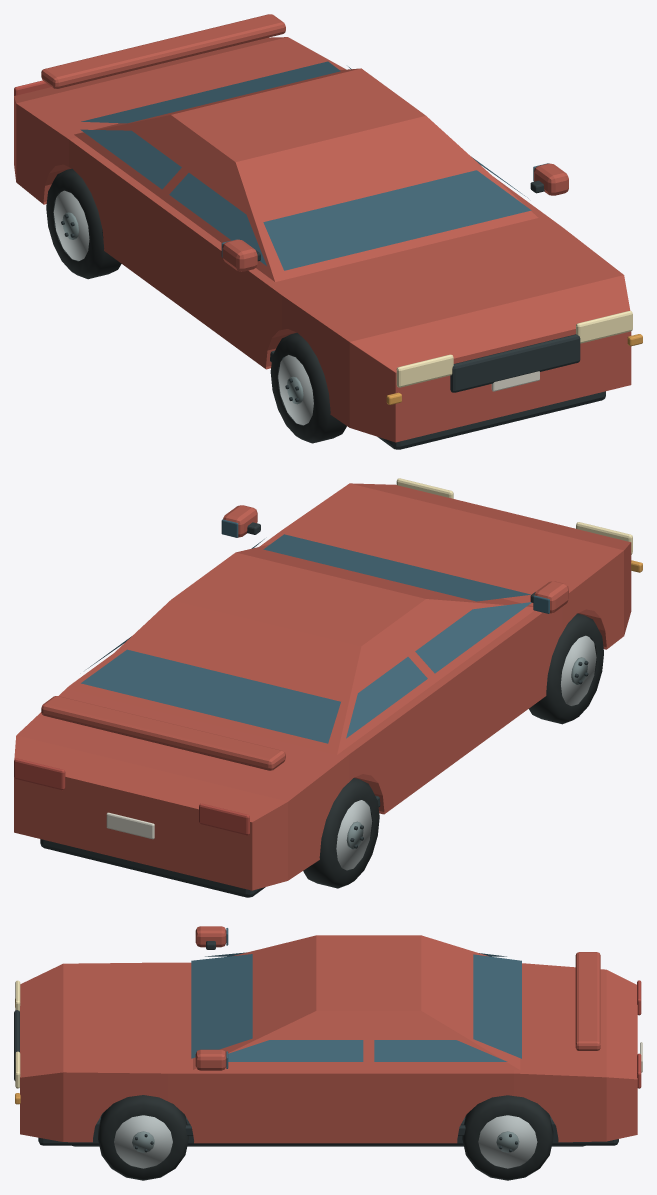
File: original-car-coupe-07.glb
3 views of the same model, one above another, from view 1: azimuth 30°, elevation 25°; view 2: azimuth 150°, elevation 25°; view 3: azimuth 270°, elevation 25° (orthographic). The views are drawn at different scales.
Parts seen in each view (by area): view 1: BodyShell, CabinShell, Windscreen, RearSpoiler, Grille, Tyre_FR, Tyre_RR, RearGlass, WindowFront, WindowRear, Frame, Rim_RR (+5 smaller); view 2: BodyShell, CabinShell, RearGlass, RearSpoiler, Windscreen, Tyre_RR, Tyre_FR, WindowFront, WindowRear, Frame, Rim_RR, Rim_FR (+5 smaller); view 3: BodyShell, CabinShell, Windscreen, RearGlass, Tyre_FL, Tyre_RL, WindowFront.001, RearSpoiler, WindowRear.001, Rim_FL, Rim_RL, Frame (+3 smaller).
Part boxes in pixels (<box>): BodyShell: <box>14,37,631,442</box>; CabinShell: <box>74,68,538,281</box>; Windscreen: <box>263,170,531,270</box>; RearSpoiler: <box>41,14,285,88</box>; Grille: <box>450,334,580,392</box>; Tyre_FR: <box>270,333,346,443</box>; Tyre_RR: <box>46,168,121,279</box>; RearGlass: <box>81,61,340,123</box>; WindowFront: <box>169,173,266,265</box>; WindowRear: <box>80,129,181,189</box>; Frame: <box>378,391,605,449</box>; Rim_RR: <box>53,190,89,260</box>; BodyShell: <box>14,483,631,890</box>; CabinShell: <box>74,544,533,754</box>; RearGlass: <box>81,649,340,743</box>; RearSpoiler: <box>41,696,285,770</box>; Windscreen: <box>263,534,530,601</box>; Tyre_RR: <box>303,778,379,888</box>; Tyre_FR: <box>529,613,603,724</box>; WindowFront: <box>415,602,531,673</box>; WindowRear: <box>346,657,427,738</box>; Frame: <box>40,839,265,897</box>; Rim_RR: <box>336,800,372,870</box>; Rim_FR: <box>561,635,596,705</box>; BodyShell: <box>20,962,637,1143</box>; CabinShell: <box>193,935,520,1070</box>; Windscreen: <box>191,954,252,1058</box>; RearGlass: <box>473,954,521,1058</box>; Tyre_FL: <box>98,1095,188,1180</box>; Tyre_RL: <box>462,1095,553,1180</box>; WindowFront.001: <box>228,1040,363,1061</box>; RearSpoiler: <box>575,952,600,1050</box>; WindowRear.001: <box>374,1040,507,1061</box>; Rim_FL: <box>114,1115,172,1168</box>; Rim_RL: <box>478,1115,537,1168</box>; Frame: <box>38,1112,618,1145</box>.
Bounding box in the file's own units: 2.23 × 1.22 × 4.5.
